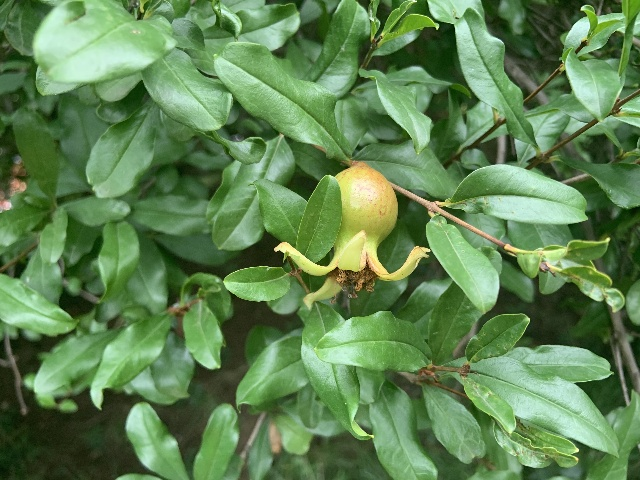early-fruit: (273, 162, 430, 309)
